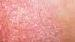plaque psoriasis: (0, 0, 62, 42)
